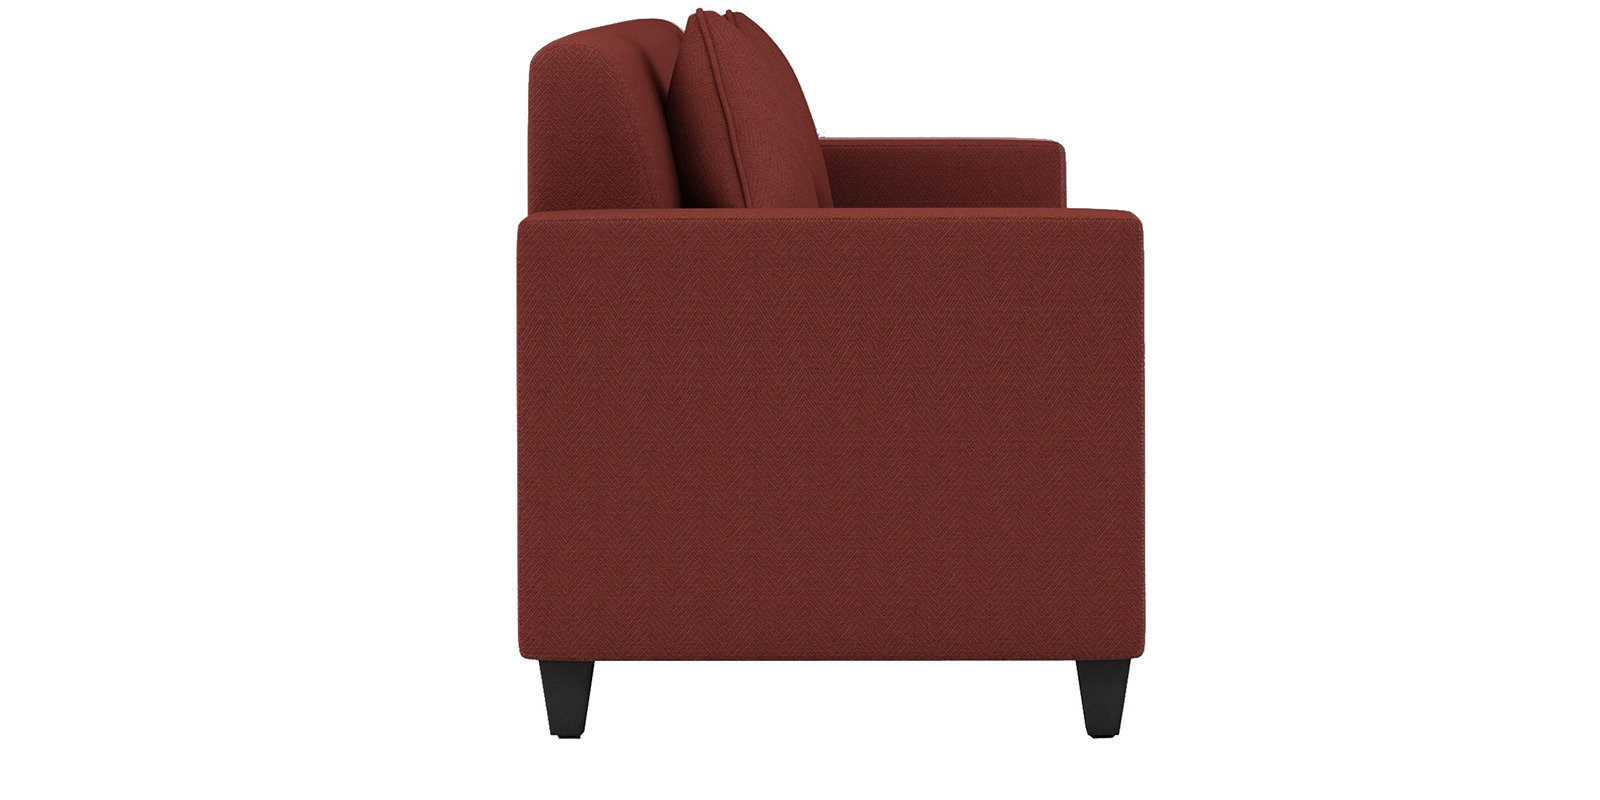Cooper Three Seater Sofa in Cherry Colour by ARRA: (489, 14, 1167, 755)
